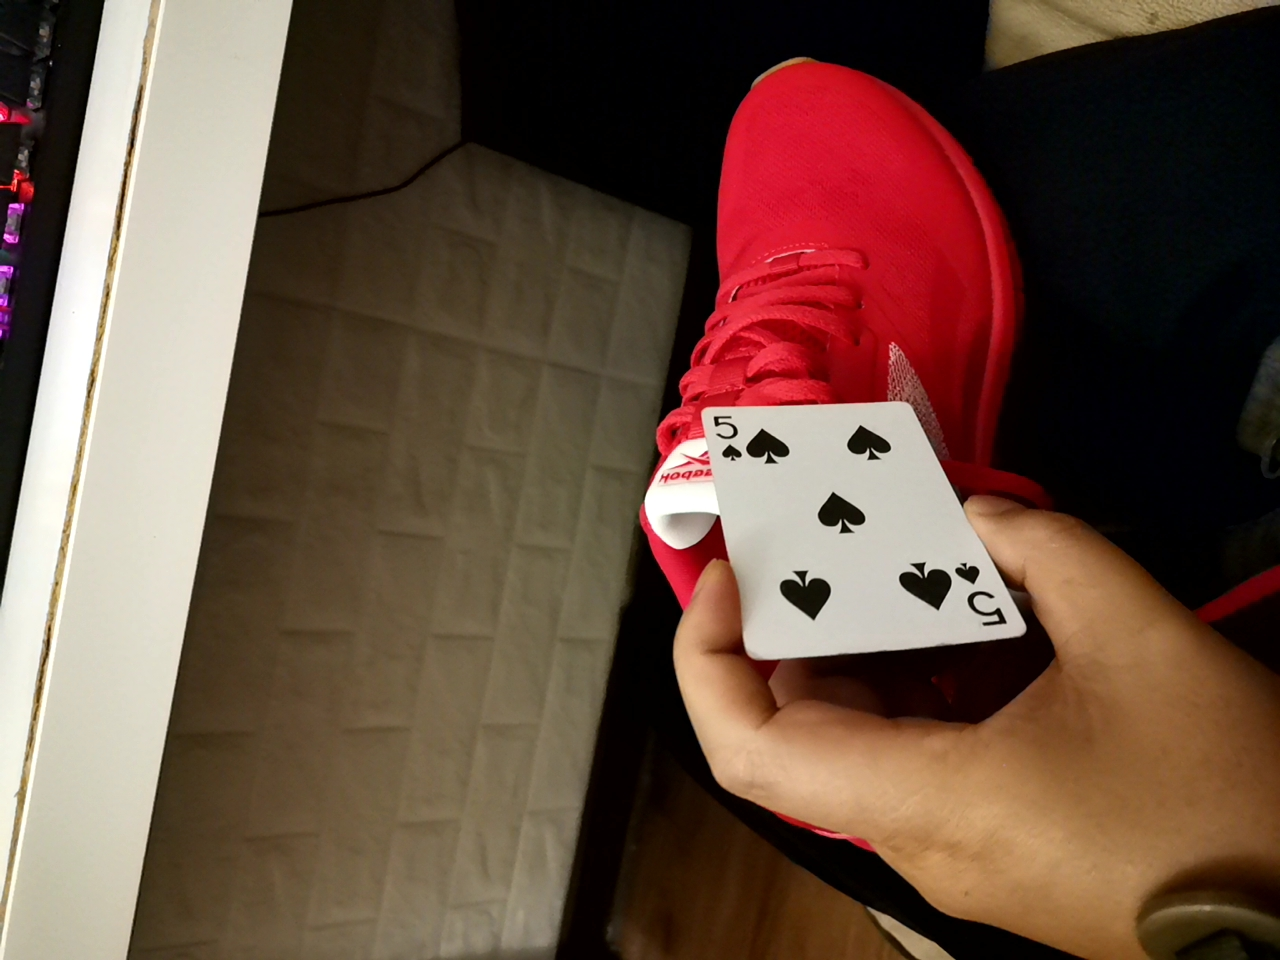ht 5: (634, 381, 1021, 656)
